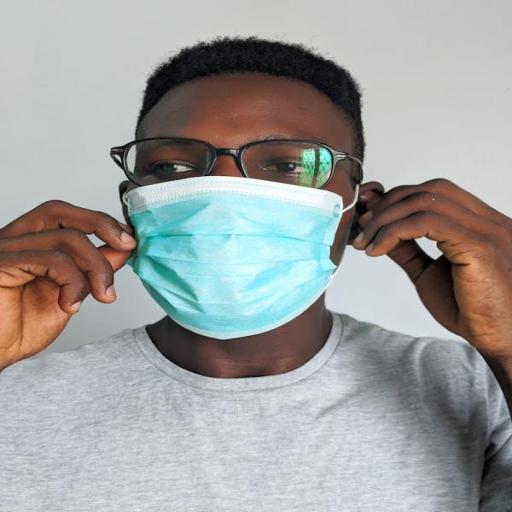mask: (113, 86, 383, 360)
